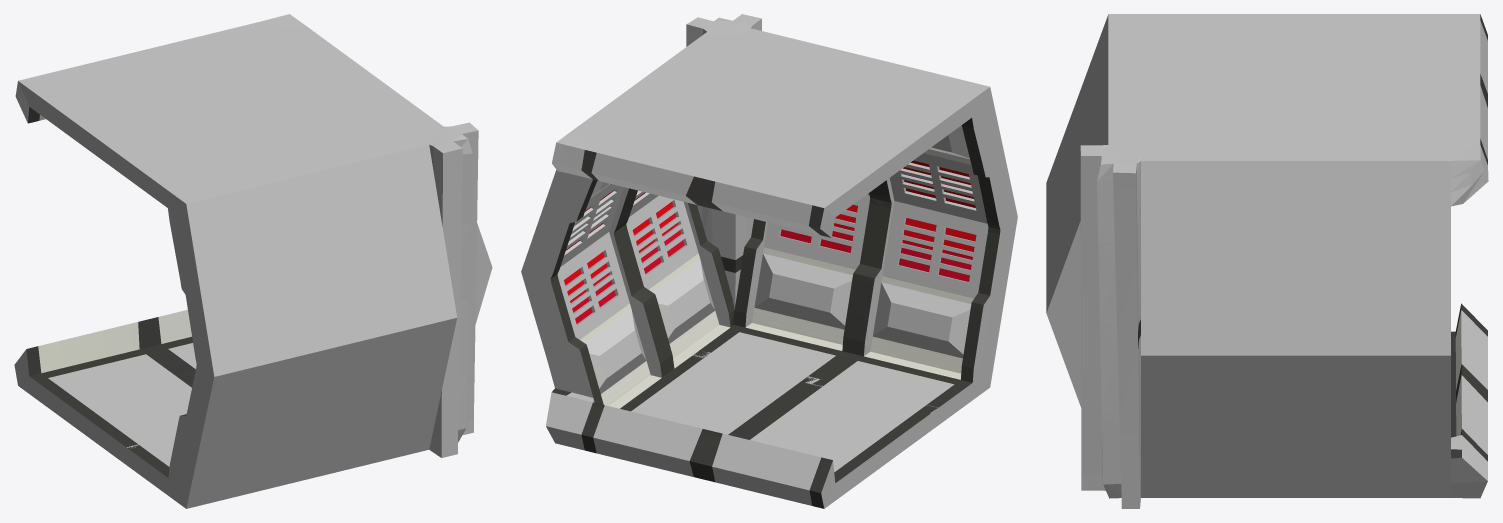
File: Hallway_Corner_Left.fbx
3 views of the same model, side by side, from view 1: azimuth 30°, elevation 25°; view 2: azimuth 150°, elevation 25°; view 3: azimuth 270°, elevation 25° (orthographic). The views are drawn at different scales.
Visible parts, largest first — view 1: Hallway_Corner_Left; view 2: Hallway_Corner_Left; view 3: Hallway_Corner_Left.
Boxes of the visible parts, x1,y1,x2,y2 form: Hallway_Corner_Left: [14, 14, 492, 508]; Hallway_Corner_Left: [521, 14, 1017, 508]; Hallway_Corner_Left: [1046, 14, 1488, 508].
Bounding box in the file's own units: 1.65 × 1.5 × 1.78.
